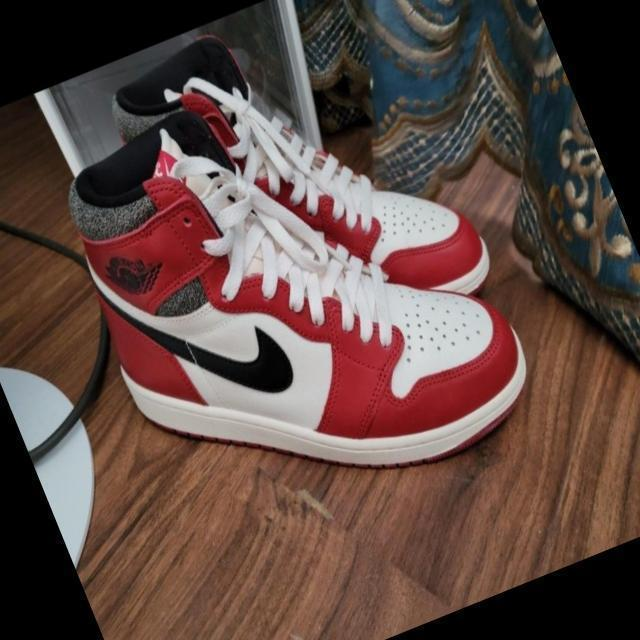nike original jordan 1: (36, 22, 554, 562), (96, 0, 504, 395)
